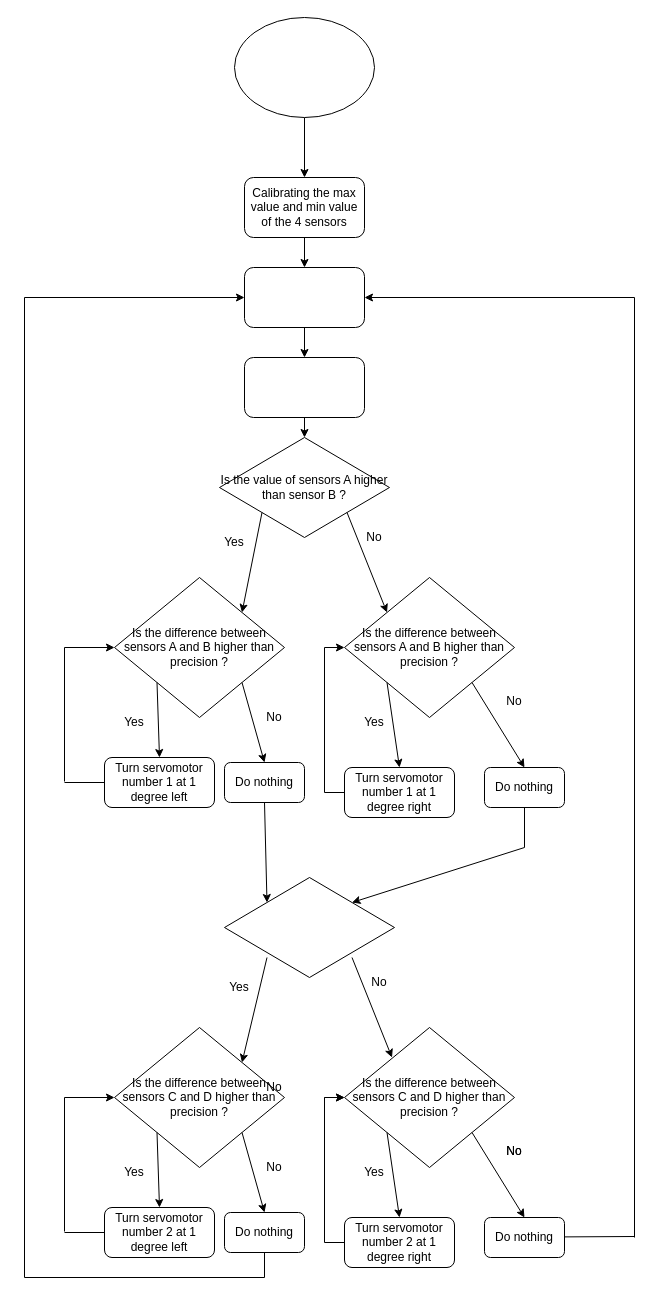
This 660x1296 diagram has some shape labels left out. The shapes that lost their labels are listed below. From the top down, each one's centre as x and y in pixels, then its label:
At pixel 304 67: "Initializing the 2 servomotors to 90°".
At pixel 304 297: "Read Temperature value on sensor and display it on The LCD screen".
At pixel 304 387: "Read Humidity value on sensor and display it on The LCD screen".
At pixel 309 927: "Is the value of sensors C higher than sensor D ?".
